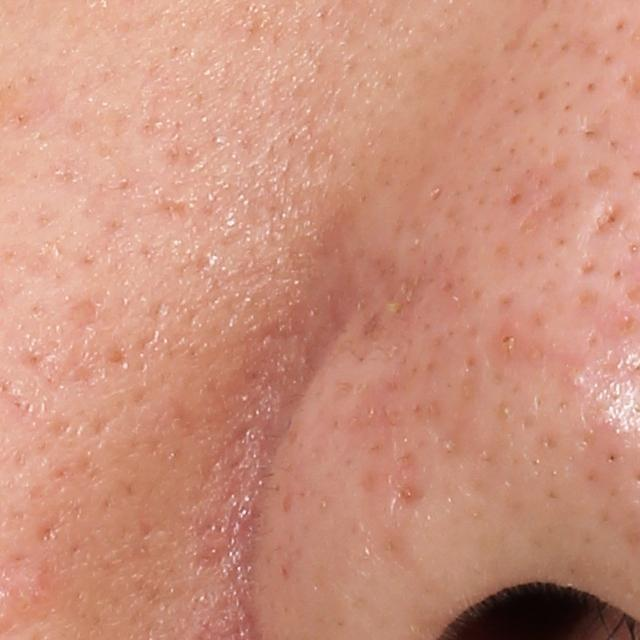atrophic_scar: (584, 198, 625, 243)
